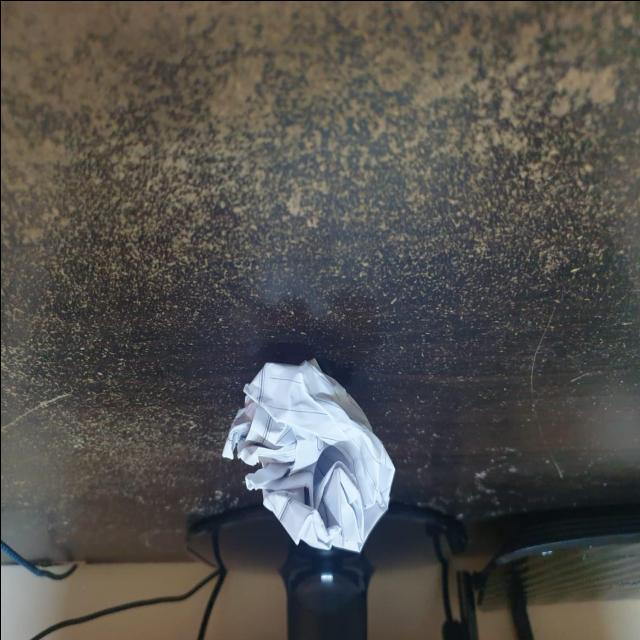kertas: (219, 355, 397, 557)
